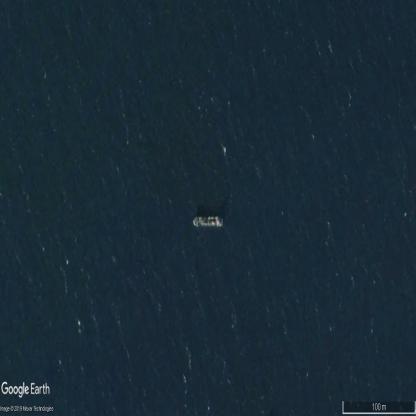ship: (193, 216, 223, 228)
